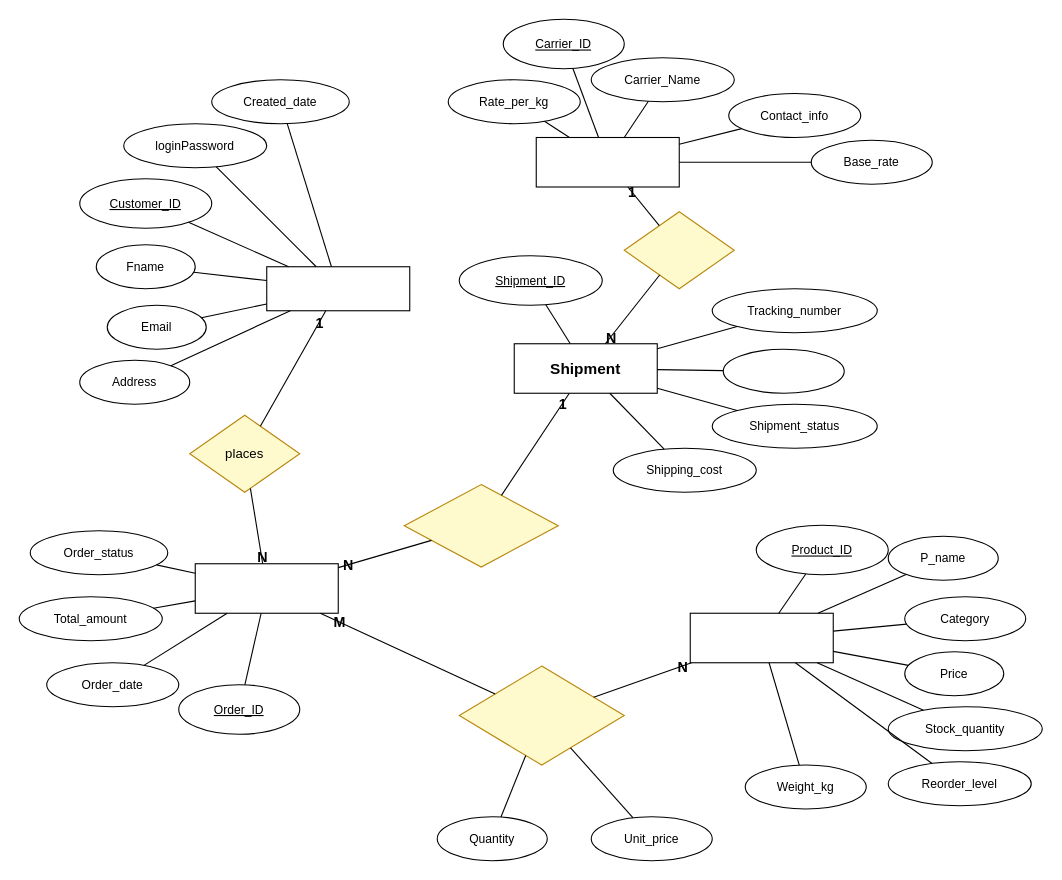
This 1062x880 diagram has some shape labels left out. Here are the shapes that lost their labels. From the top down, the box of each, then its label:
(535, 136, 679, 187): Carrier
(623, 211, 734, 289): handles
(266, 266, 410, 311): Customer
(722, 348, 844, 393): Ship_date
(403, 483, 558, 567): grouped in
(194, 563, 338, 613): C_Order
(689, 612, 833, 663): Product
(458, 665, 624, 765): Order_Item
